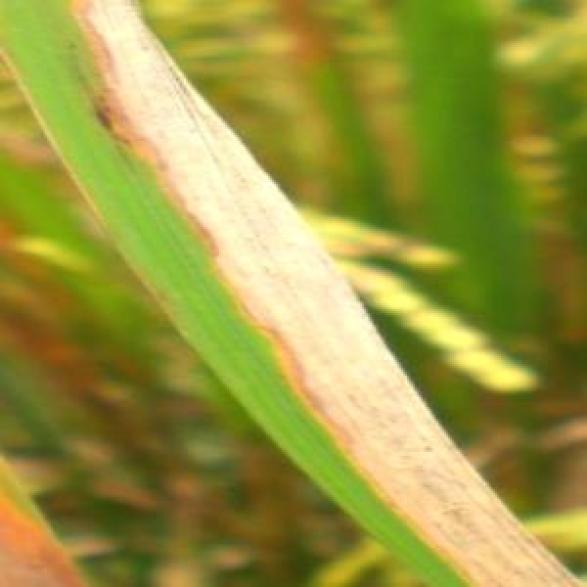Bacteria_Leaf_Blight: (125, 49, 407, 509)
